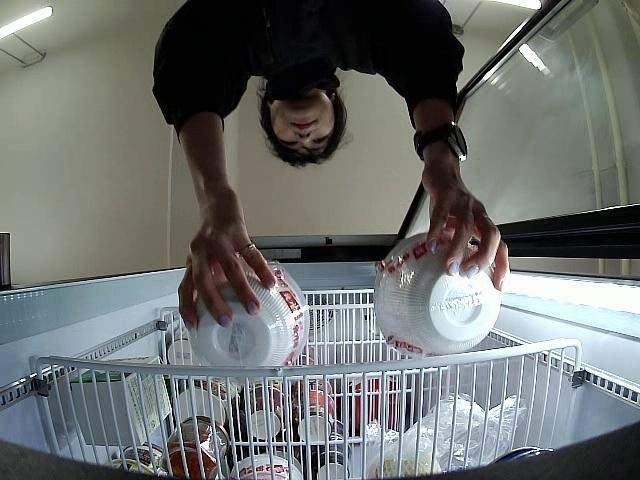09_yukGaeJang: (372, 236, 498, 358), (190, 268, 311, 372)
